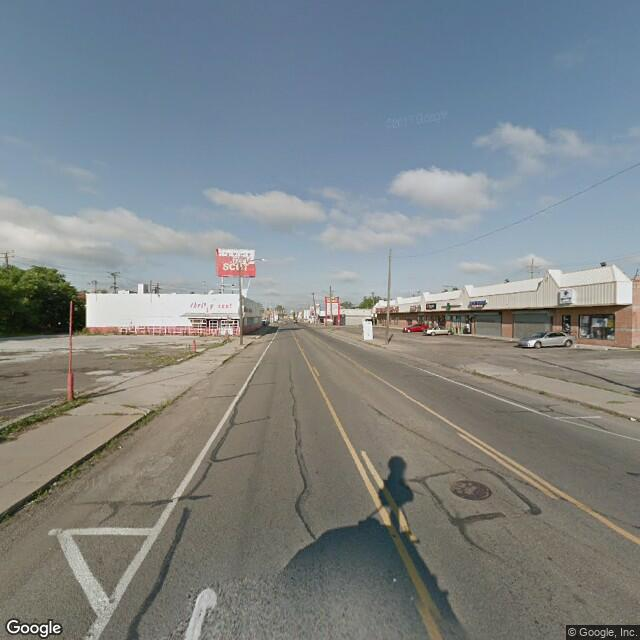litter: (118, 442, 124, 452), (630, 415, 636, 421)
